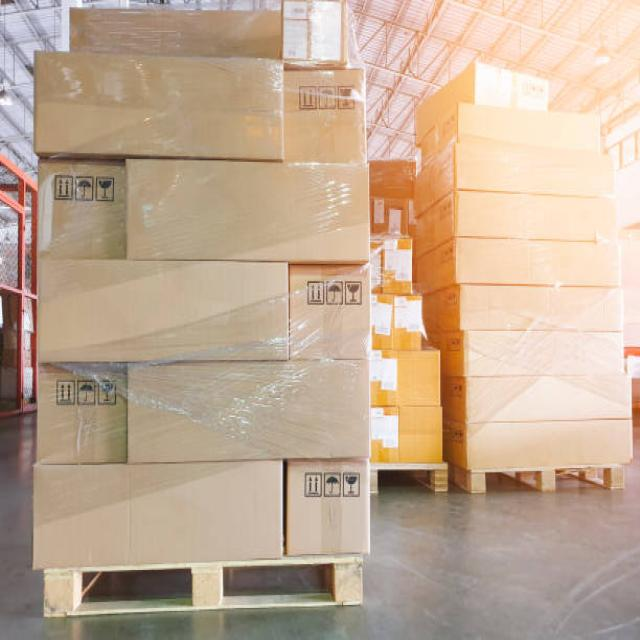Wooden-Pallets: (38, 566, 371, 622), (466, 466, 624, 496)
